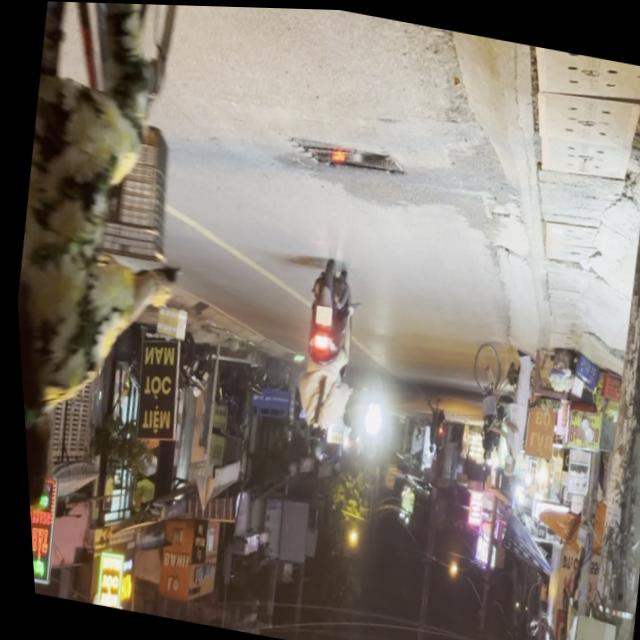helmet: (298, 423, 323, 460)
licenseplate: (272, 256, 367, 466)
nohelmet: (308, 303, 328, 324)
